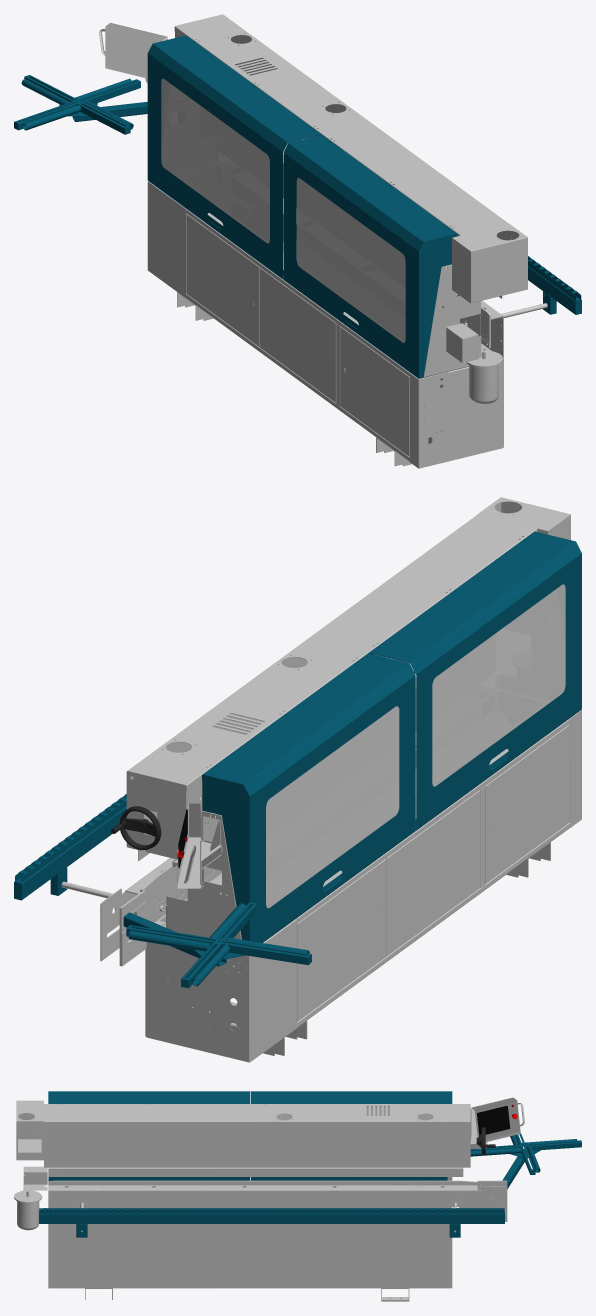
3 renders of one model, top to bottom at view 1: azimuth 30°, elevation 25°; view 2: azimuth 150°, elevation 25°; view 3: azimuth 270°, elevation 25°, orthographic. The views are drawn at different scales.
Visible parts, largest first — view 1: __1, Object002, Object001, ??1; view 2: __1, Object002, Object001, ??1 (×2), Object003; view 3: __1, Object002, ??1 (×2), Object001.
Boxes of the visible parts, left/top/right/bottom form: __1: left=147, top=14, right=547, bottom=468; Object002: left=14, top=35, right=581, bottom=378; Object001: left=161, top=78, right=405, bottom=342; ??1: left=105, top=26, right=162, bottom=78; __1: left=61, top=497, right=581, bottom=1062; Object002: left=14, top=531, right=581, bottom=988; Object001: left=266, top=584, right=565, bottom=908; ??1 (×2): left=172, top=816, right=222, bottom=888; Object003: left=111, top=806, right=161, bottom=850; __1: left=14, top=1100, right=507, bottom=1301; Object002: left=39, top=1091, right=581, bottom=1237; ??1 (×2): left=471, top=1097, right=520, bottom=1141; Object001: left=276, top=1107, right=433, bottom=1120.
Size of the model in its own units: 0.0596 by 0.0561 by 0.1588.
